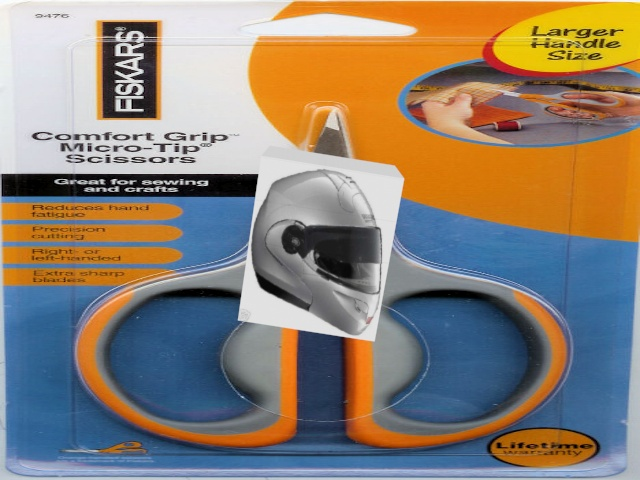file_cabinet: (233, 145, 408, 344)
